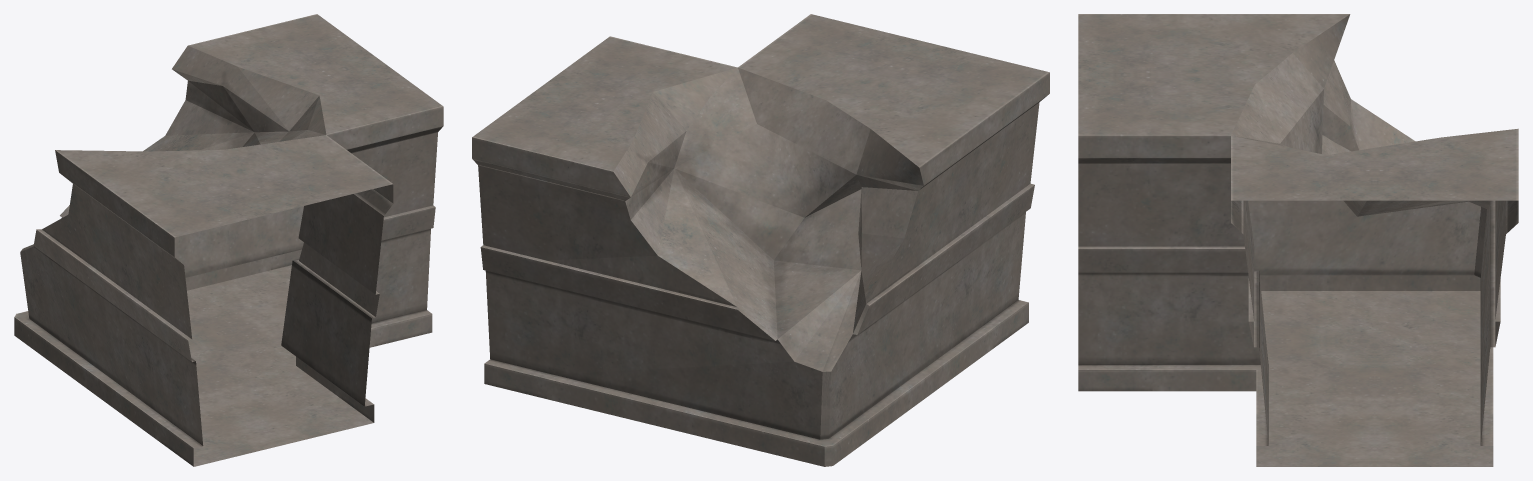
The model's file is sb_obj_outdoor009_AncientTemple_WallTopParts01G.fbx.
3 views of the same model, side by side, from view 1: azimuth 30°, elevation 25°; view 2: azimuth 150°, elevation 25°; view 3: azimuth 270°, elevation 25° (orthographic). The views are drawn at different scales.
Visible parts, largest first — view 1: sb_obj_outdoor009_AncientTemple_WallTopParts01G; view 2: sb_obj_outdoor009_AncientTemple_WallTopParts01G; view 3: sb_obj_outdoor009_AncientTemple_WallTopParts01G.
Boxes of the visible parts, bbox=[...] form: sb_obj_outdoor009_AncientTemple_WallTopParts01G: bbox=[14, 14, 443, 466]; sb_obj_outdoor009_AncientTemple_WallTopParts01G: bbox=[472, 14, 1049, 466]; sb_obj_outdoor009_AncientTemple_WallTopParts01G: bbox=[1078, 14, 1518, 466].
Bounding box in the file's own units: 2.98 × 1.98 × 2.97.
